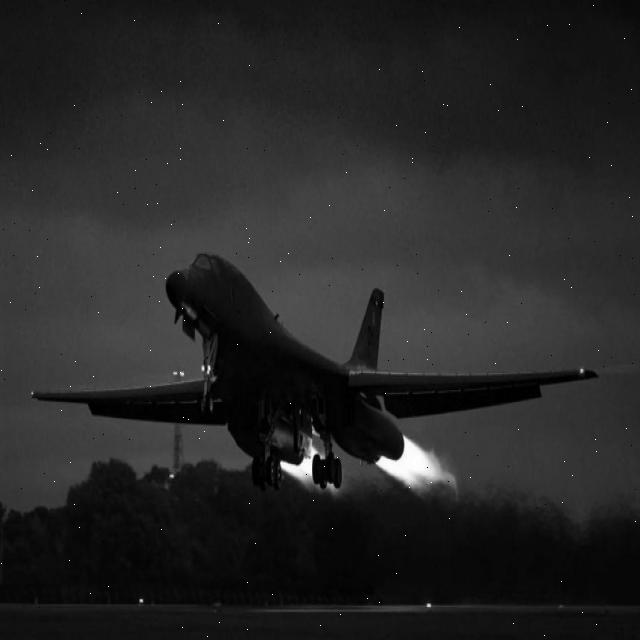B1: (17, 152, 609, 558)
